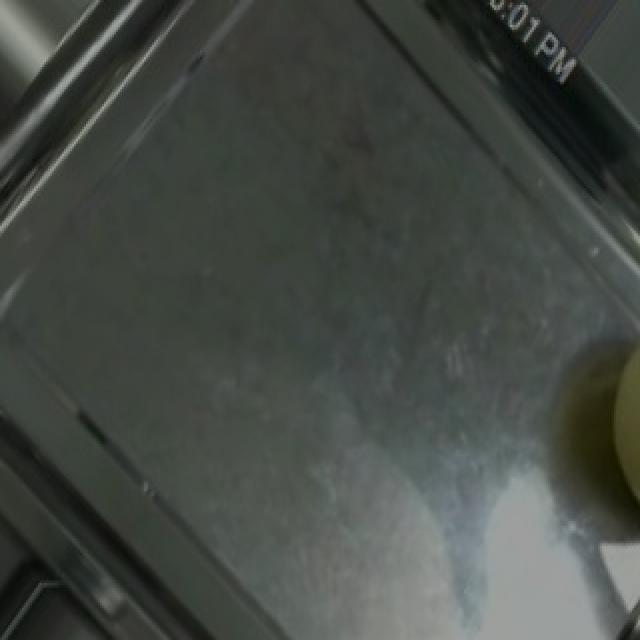Fruit: (552, 305, 640, 558)
